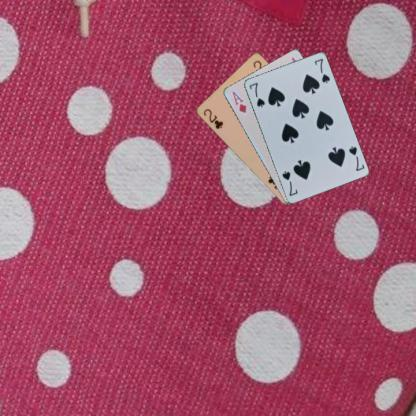2c: (200, 106, 224, 130)
7s: (346, 143, 366, 172), (246, 80, 266, 108)
Ad: (230, 88, 248, 114)
